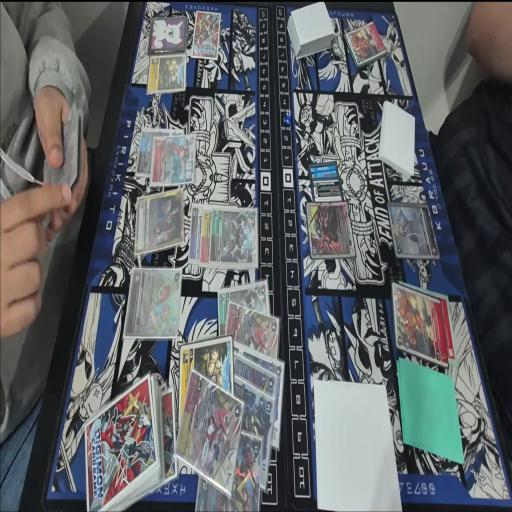card: (174, 371, 245, 499), (219, 372, 277, 490), (193, 422, 264, 511), (229, 345, 285, 453), (178, 335, 235, 432), (389, 281, 446, 364), (124, 268, 183, 338), (225, 300, 281, 366), (218, 278, 272, 341), (388, 199, 440, 260), (211, 206, 259, 272), (306, 202, 354, 261), (134, 197, 184, 250), (139, 126, 185, 181), (152, 136, 196, 188), (344, 20, 387, 69), (150, 54, 186, 92), (440, 290, 456, 358), (189, 202, 203, 268), (310, 180, 345, 205), (308, 161, 340, 187), (201, 202, 212, 267)
